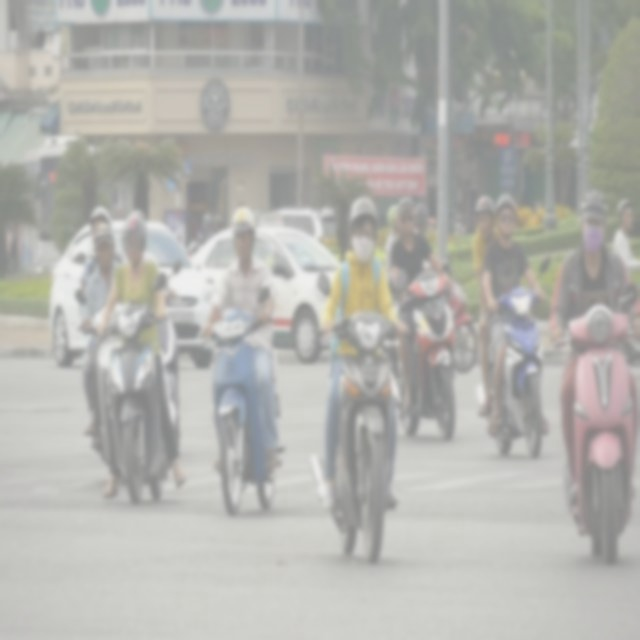pessoa: (548, 186, 640, 516), (319, 193, 411, 512), (94, 213, 187, 499), (199, 201, 280, 475), (480, 194, 551, 438), (390, 193, 454, 412), (471, 194, 522, 420), (78, 202, 126, 440), (80, 221, 124, 452), (612, 197, 639, 300), (383, 204, 405, 299), (130, 207, 160, 270), (428, 211, 480, 236), (5, 218, 28, 274), (198, 213, 215, 246), (414, 201, 429, 236), (213, 213, 223, 234)
